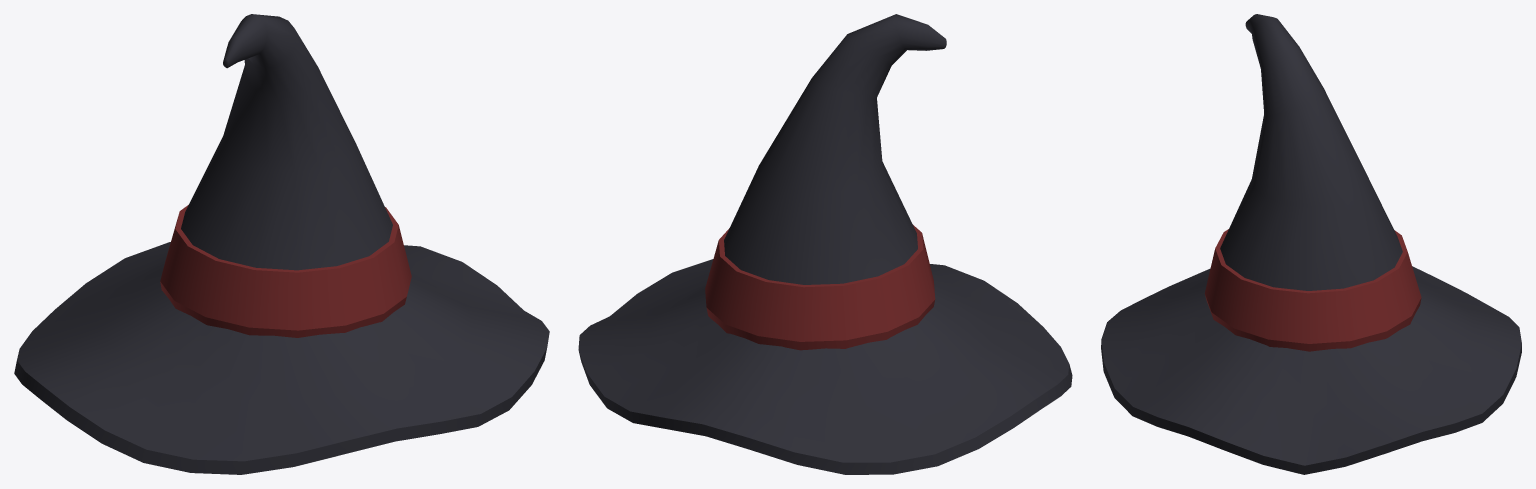
The model's file is WizardHat_01.fbx.
The picture shows the model from 3 angles, left to right: view 1: azimuth 30°, elevation 25°; view 2: azimuth 150°, elevation 25°; view 3: azimuth 270°, elevation 25°; orthographic projection. The views are drawn at different scales.
Visible parts, largest first — view 1: WizardHat_01; view 2: WizardHat_01; view 3: WizardHat_01.
Part boxes in pixels (x1,y1,x2,y2): WizardHat_01: (14, 14, 549, 474); WizardHat_01: (578, 14, 1072, 474); WizardHat_01: (1101, 14, 1521, 474).
Size of the model in its own units: 0.4275 by 0.338 by 0.3817.
